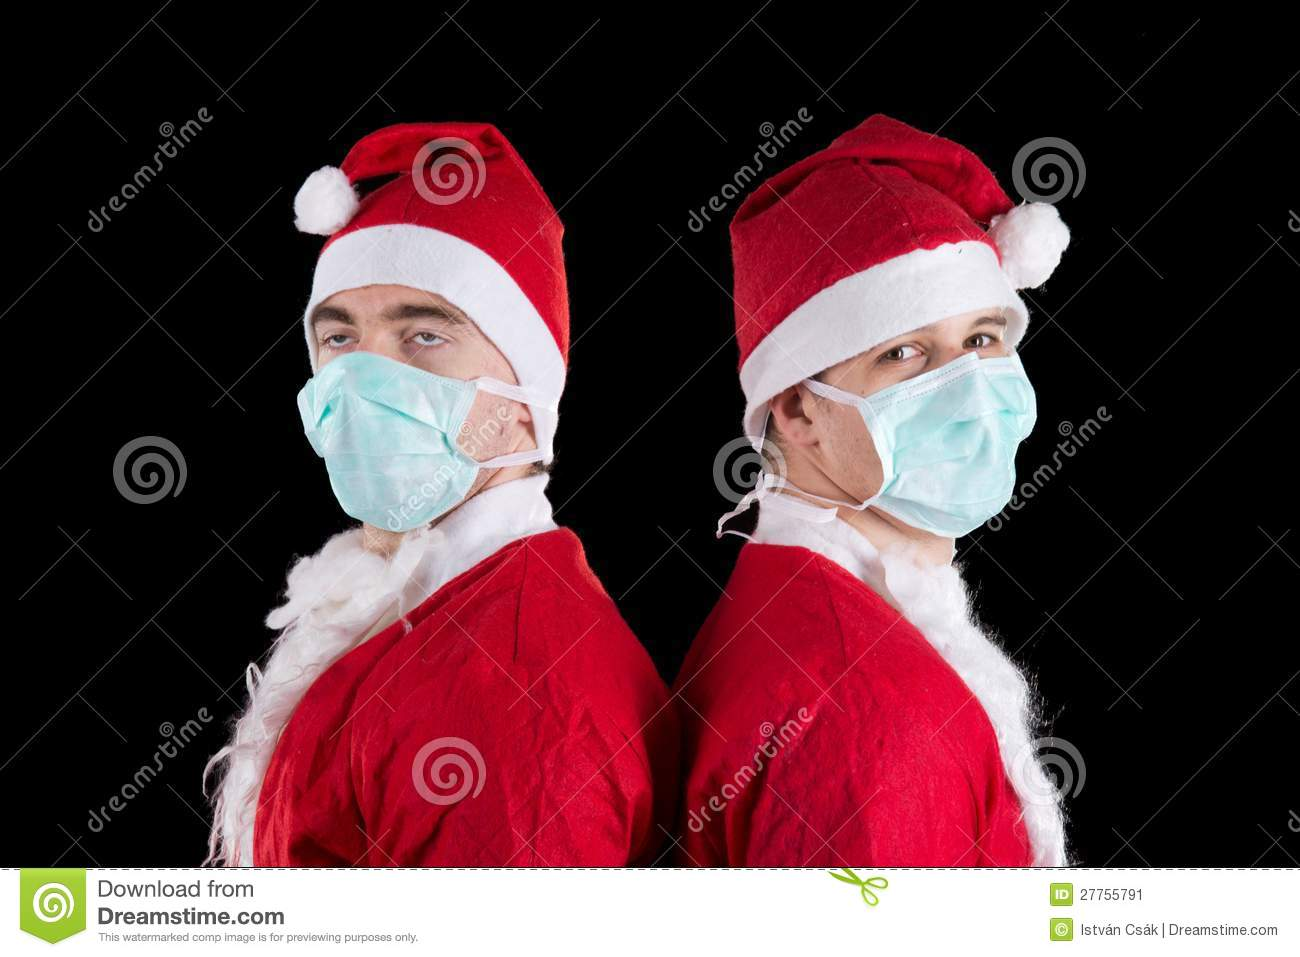mask: (295, 352, 484, 531), (860, 358, 1042, 537)
